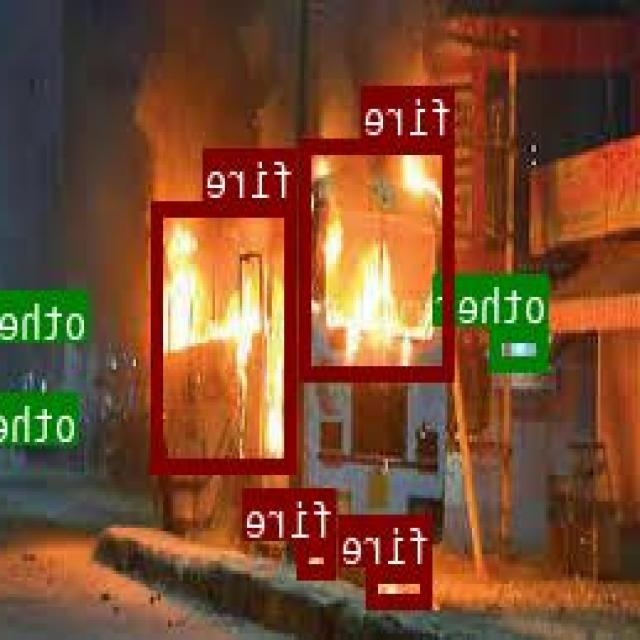fire: (153, 201, 298, 470), (302, 138, 455, 378), (369, 565, 434, 605), (301, 538, 336, 576)
other: (494, 323, 550, 368), (51, 391, 80, 425), (72, 290, 90, 310)
